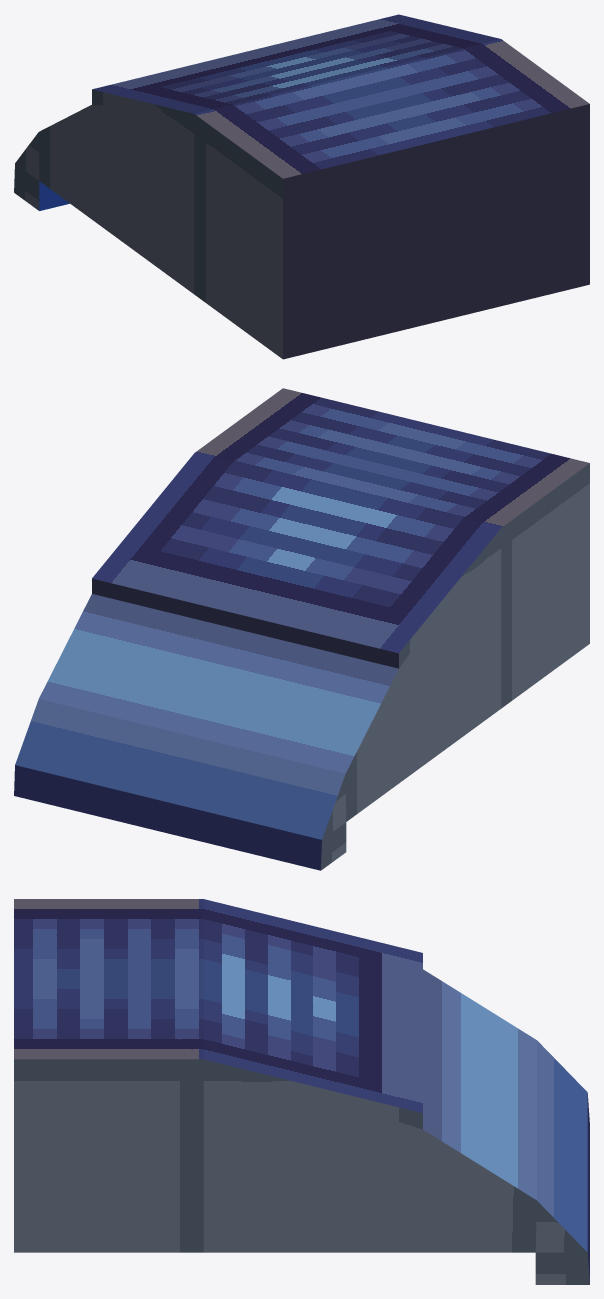
Rendered from df21_exhaust_fan.obj.
3 renders of one model, top to bottom at view 1: azimuth 30°, elevation 25°; view 2: azimuth 150°, elevation 25°; view 3: azimuth 270°, elevation 25°, orthographic. The views are drawn at different scales.
Parts seen in each view (by area): view 1: cuboid_selection_selection_selection_selection_selection; view 2: cuboid_selection_selection_selection_selection_selection; view 3: cuboid_selection_selection_selection_selection_selection.
Boxes of the visible parts, box(x1,y1,x2,y2) form: cuboid_selection_selection_selection_selection_selection: box(14, 14, 589, 359); cuboid_selection_selection_selection_selection_selection: box(14, 388, 589, 870); cuboid_selection_selection_selection_selection_selection: box(14, 899, 589, 1284).
Size of the model in its own units: 1 by 0.6562 by 1.52.
